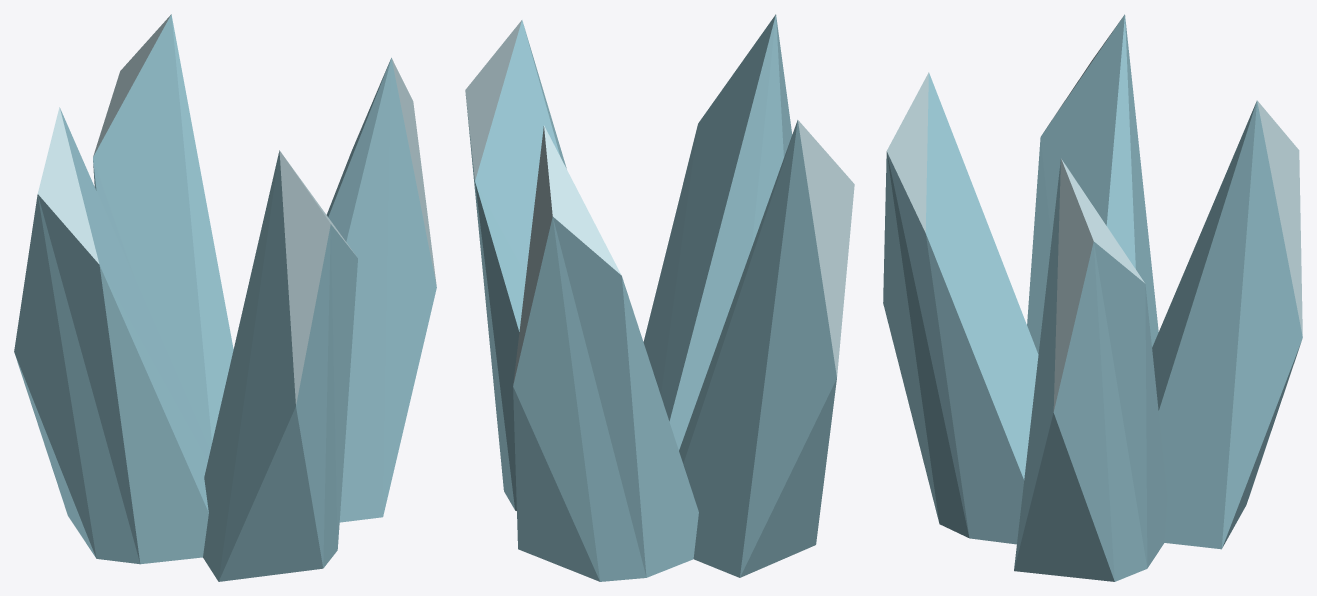
File: sharp_rock_8.fbx
3 renders of one model, left to right at view 1: azimuth 30°, elevation 25°; view 2: azimuth 150°, elevation 25°; view 3: azimuth 270°, elevation 25°, orthographic. The views are drawn at different scales.
Visible parts, largest first — view 1: sharp_rock_8; view 2: sharp_rock_8; view 3: sharp_rock_8.
Part boxes in pixels (x1=…): sharp_rock_8: x1=14, y1=14, x2=436, y2=581; sharp_rock_8: x1=465, y1=14, x2=854, y2=581; sharp_rock_8: x1=883, y1=14, x2=1302, y2=581.
Size of the model in its own units: 368 by 399 by 354.
